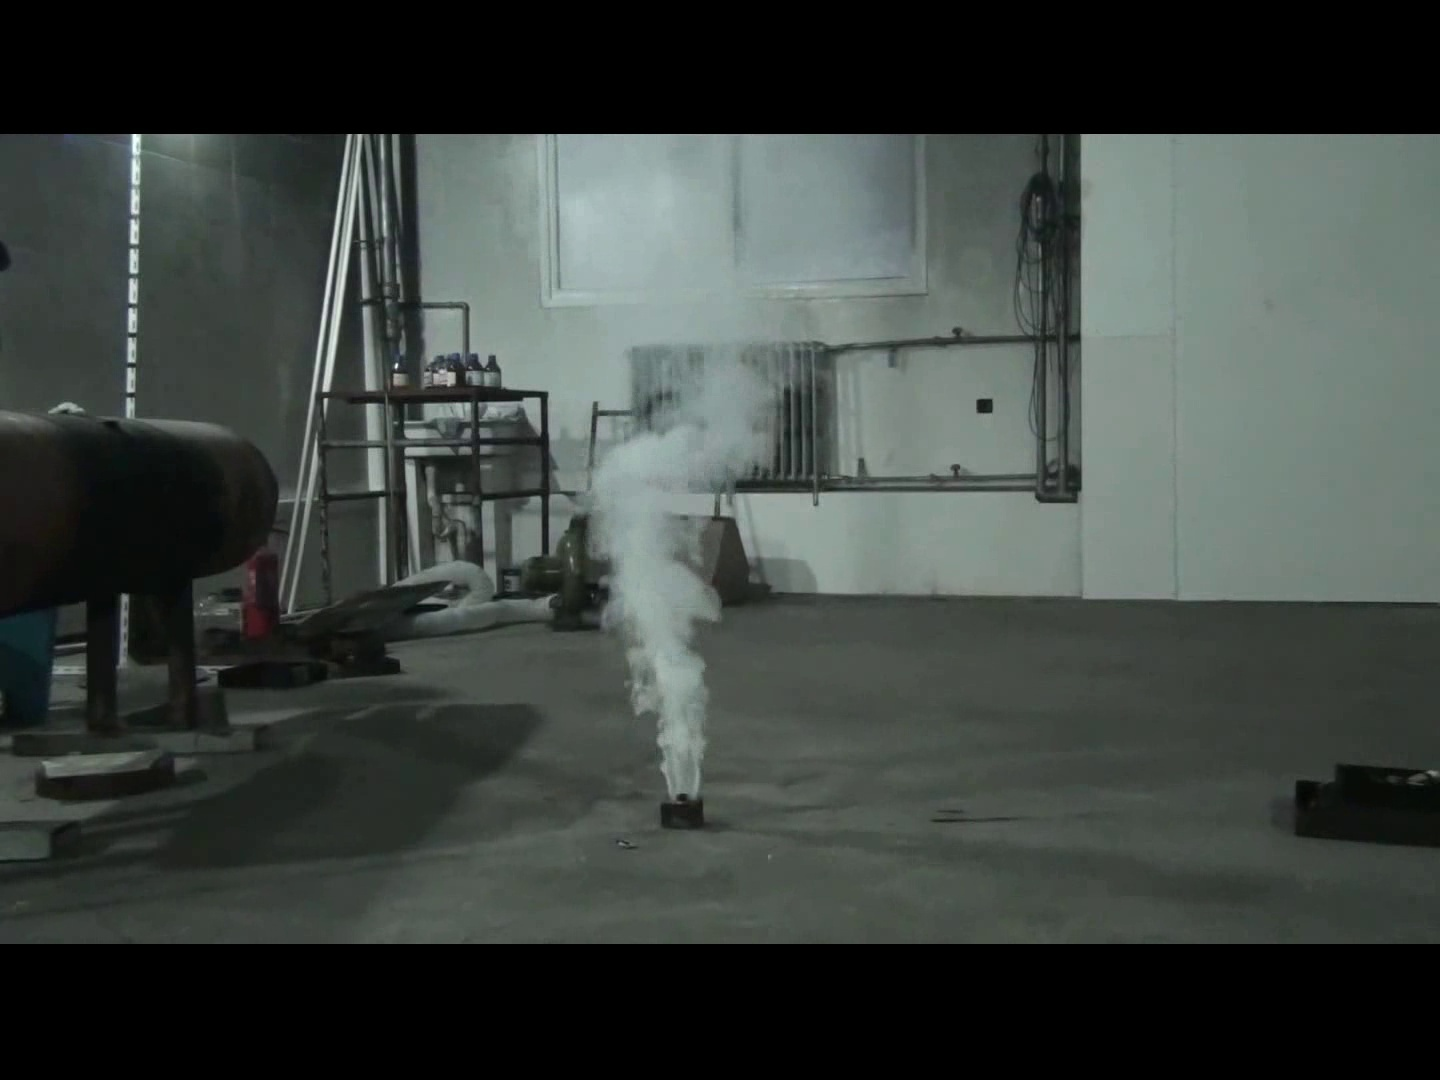smoke: (586, 345, 773, 793)
